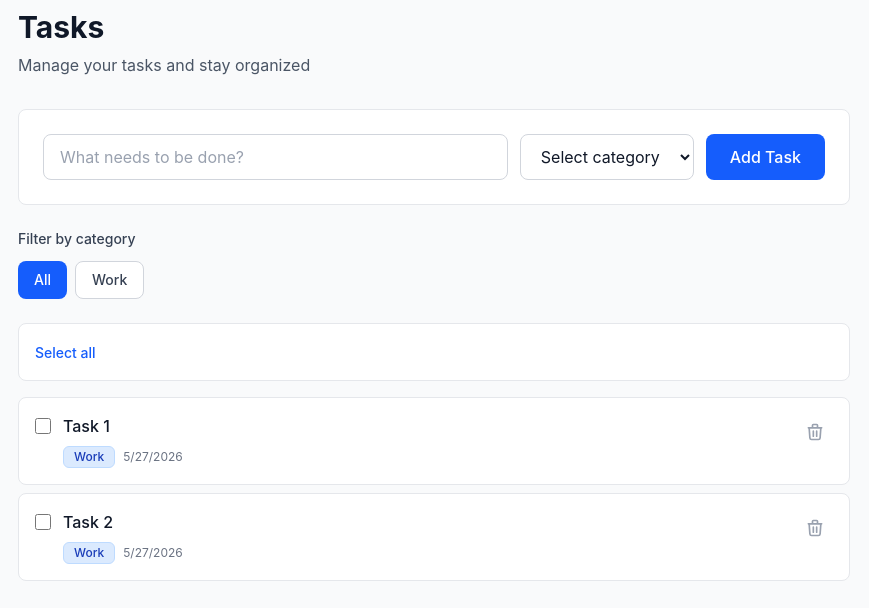
Undo and Bulk Actions › should show bulk actions when selecting tasks
The image size is (869, 608).
Expected: the text "Task 1" is shown, [63, 416, 110, 436]
Click the button "Select all" at (65, 353), box [35, 343, 96, 363]
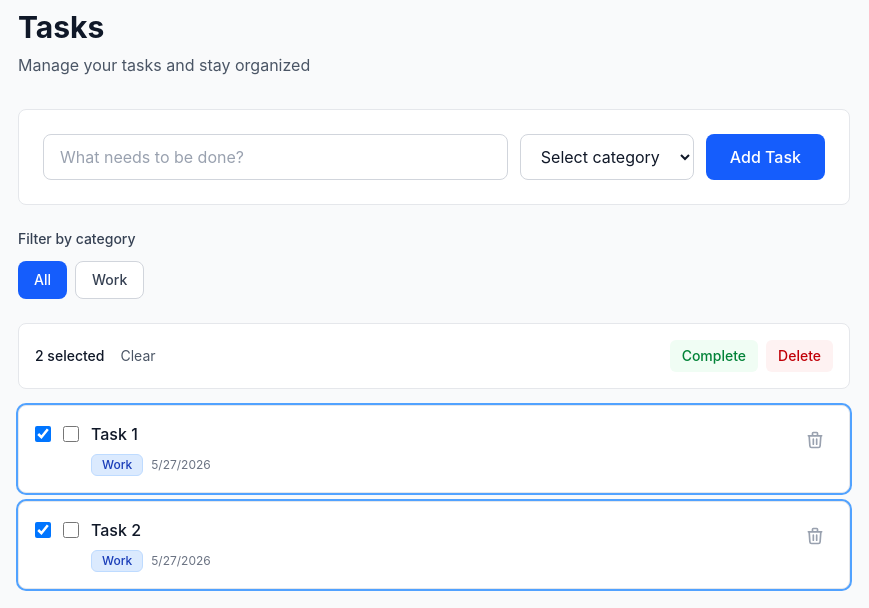
Expected: the text "2 selected" is shown, [35, 346, 104, 366]
Expected: the button "Complete" is shown, [670, 340, 758, 372]
Expected: the text "2 selected Clear Complete Delete" is shown, [18, 323, 850, 389]
